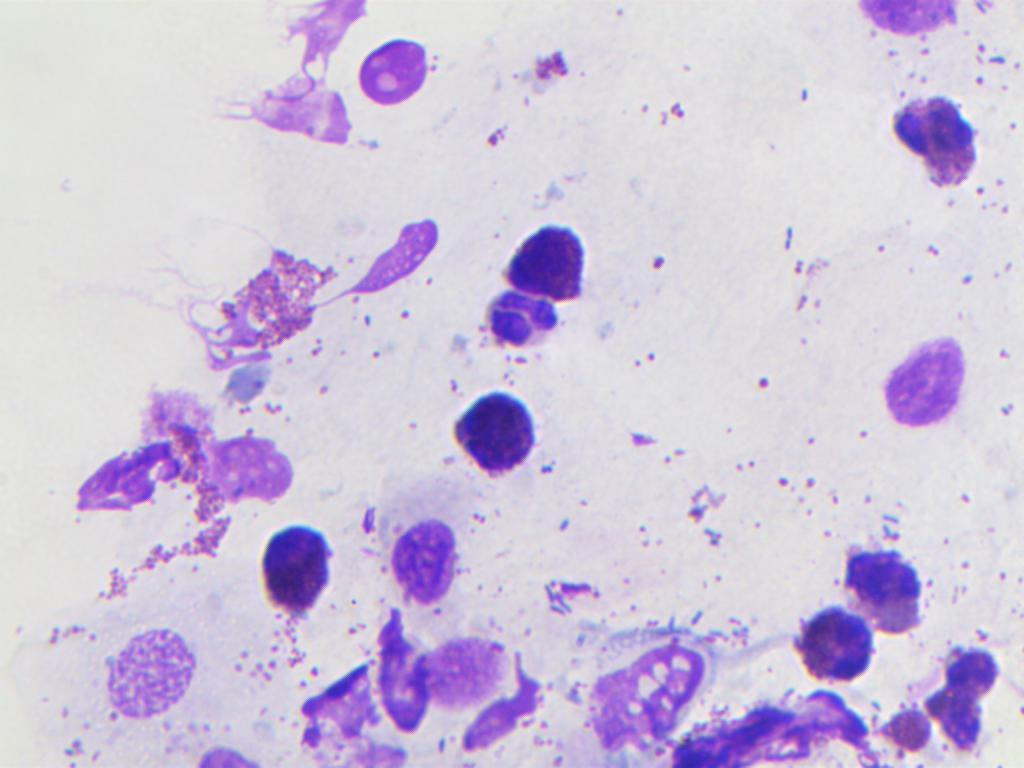artifact: (66, 392, 234, 604), (562, 632, 714, 750), (662, 686, 875, 768), (208, 55, 369, 152), (844, 325, 985, 434), (348, 189, 452, 322), (291, 655, 403, 768), (409, 624, 516, 723), (458, 662, 549, 752), (371, 608, 433, 733)
eosinophil: (866, 80, 993, 209), (253, 501, 346, 675), (432, 378, 589, 481), (228, 248, 341, 344), (922, 631, 1005, 751), (834, 544, 933, 635), (777, 599, 876, 690), (506, 217, 593, 300)
epithelial: (72, 619, 206, 733), (367, 494, 477, 615)
neutrophil: (456, 292, 569, 353)
